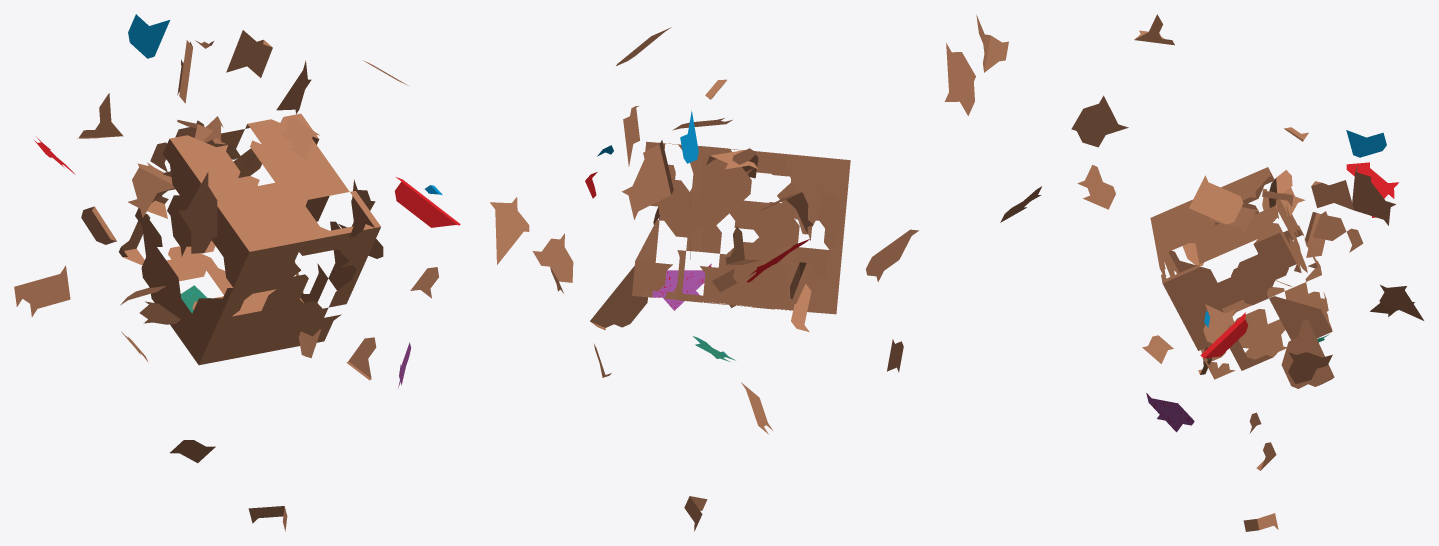
File: explode_000055.obj
The picture shows the model from 3 angles, left to right: view 1: azimuth 30°, elevation 25°; view 2: azimuth 150°, elevation 25°; view 3: azimuth 270°, elevation 25°; orthographic projection. The views are drawn at different scales.
Visible parts, largest first — view 1: Cube_Cube.001; view 2: Cube_Cube.001; view 3: Cube_Cube.001.
Boxes of the visible parts, box(x1,y1,x2,y2) form: Cube_Cube.001: box(14, 14, 460, 531); Cube_Cube.001: box(490, 14, 1041, 531); Cube_Cube.001: box(1071, 14, 1423, 531).
Size of the model in its own units: 5.98 by 7.35 by 5.47.
